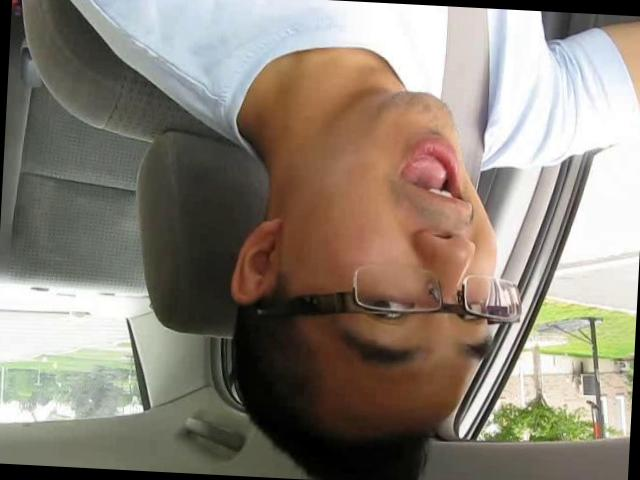eye_open: (352, 284, 422, 330), (450, 294, 492, 330)
face: (289, 84, 512, 374)
mouth_open: (392, 132, 480, 212)
